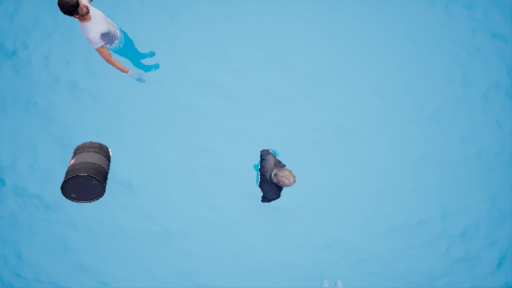person: (57, 3, 163, 95), (240, 145, 301, 203)
